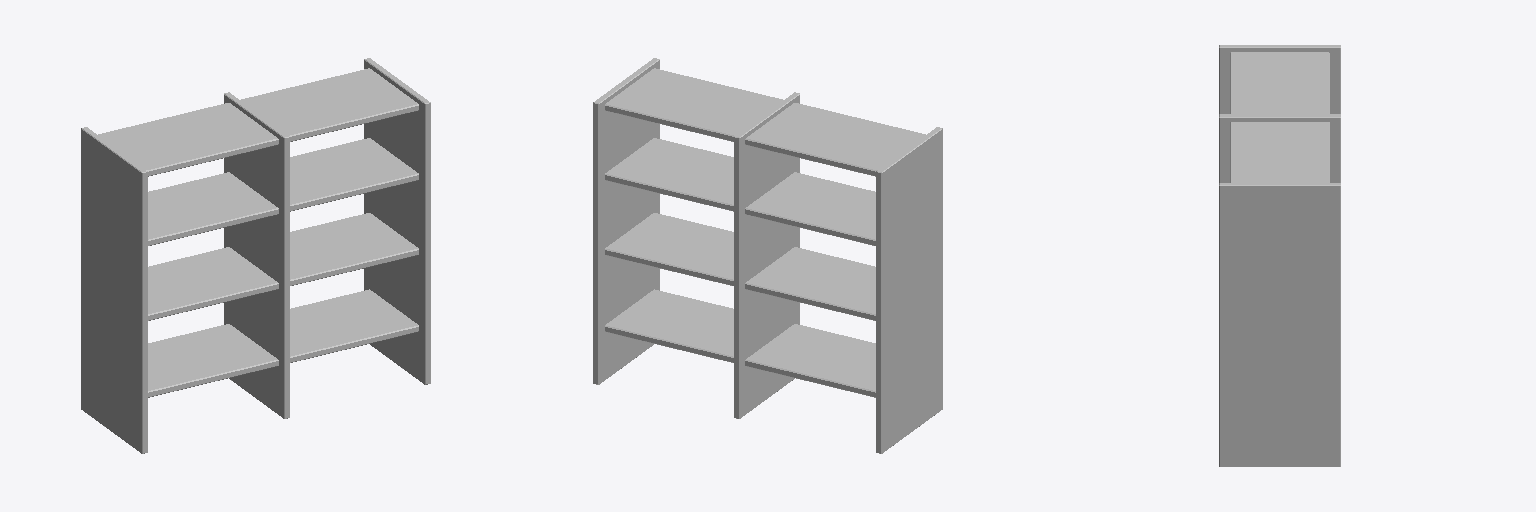
Rendered from shelf.obj.
3 views of the same model, side by side, from view 1: azimuth 30°, elevation 25°; view 2: azimuth 150°, elevation 25°; view 3: azimuth 270°, elevation 25° (orthographic).
Parts seen in each view (by area): view 1: Shelve1; view 2: Shelve1; view 3: Shelve1.
Boxes of the visible parts, box(x1,y1,x2,y2) form: Shelve1: box(81, 58, 430, 453); Shelve1: box(593, 58, 942, 453); Shelve1: box(1219, 45, 1340, 466).
Bounding box in the file's own units: 230 × 214 × 84.35.